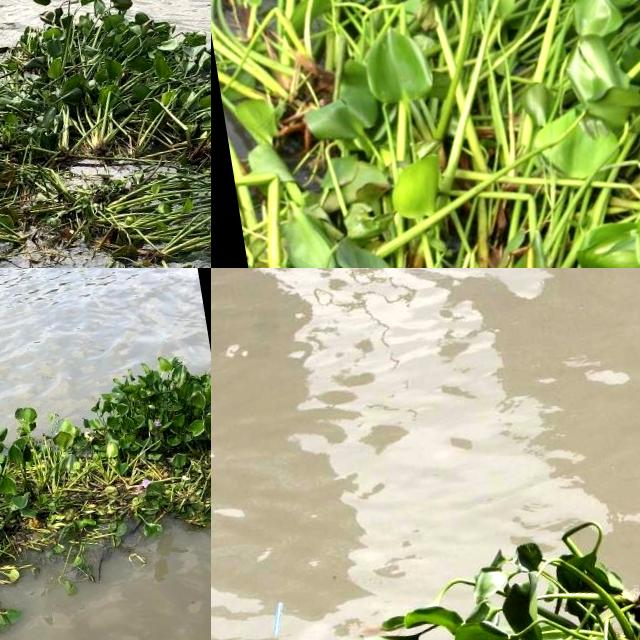water-hyacinth: (212, 1, 640, 269), (1, 341, 212, 640), (1, 1, 212, 269), (333, 510, 640, 640)
